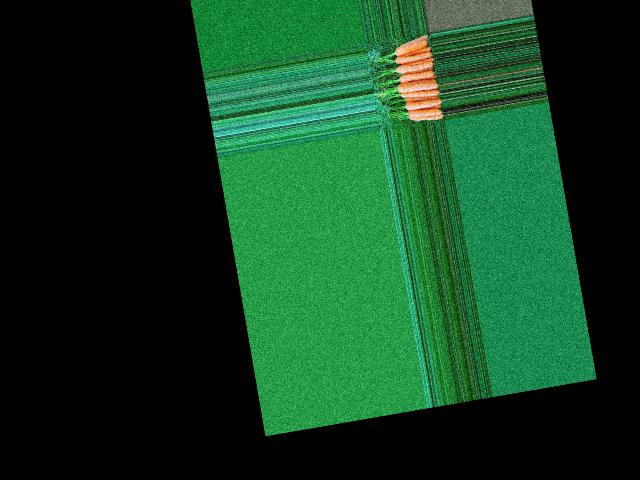carrot: (409, 111, 445, 122)
